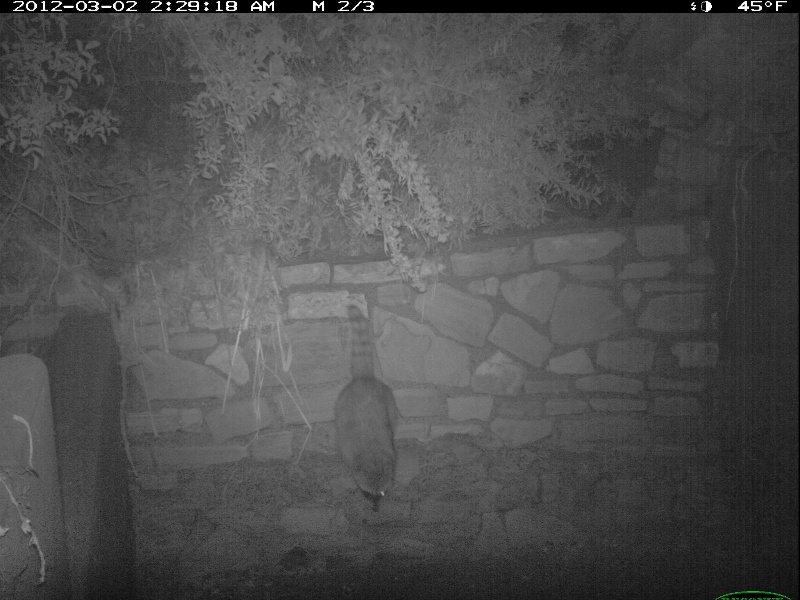raccoon: (333, 303, 402, 516)
